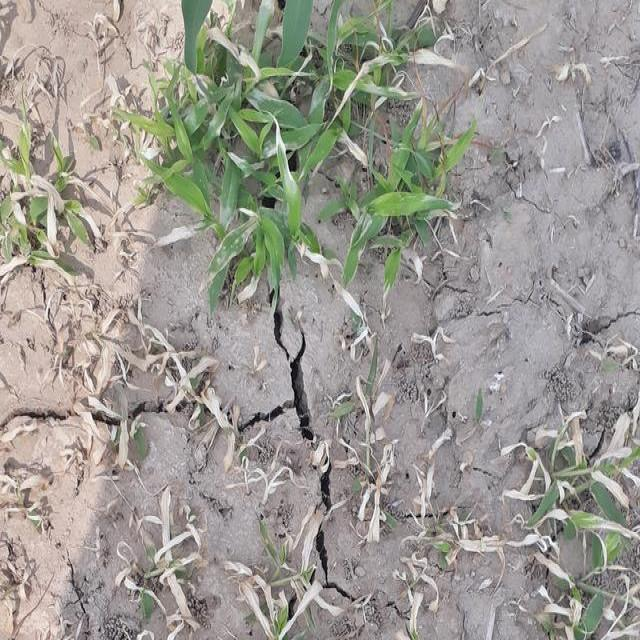weed: (148, 0, 486, 297)
